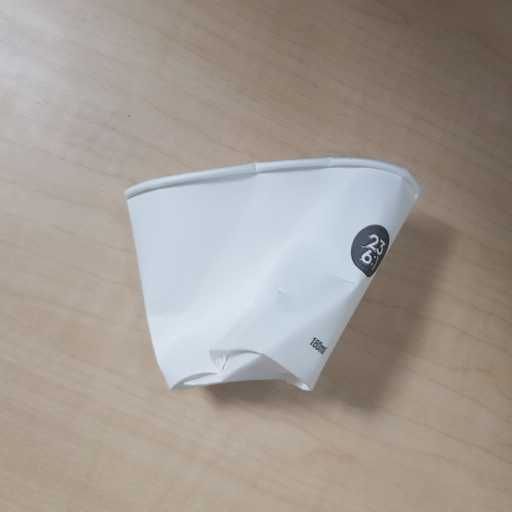Paper_1: (120, 158, 421, 391)
